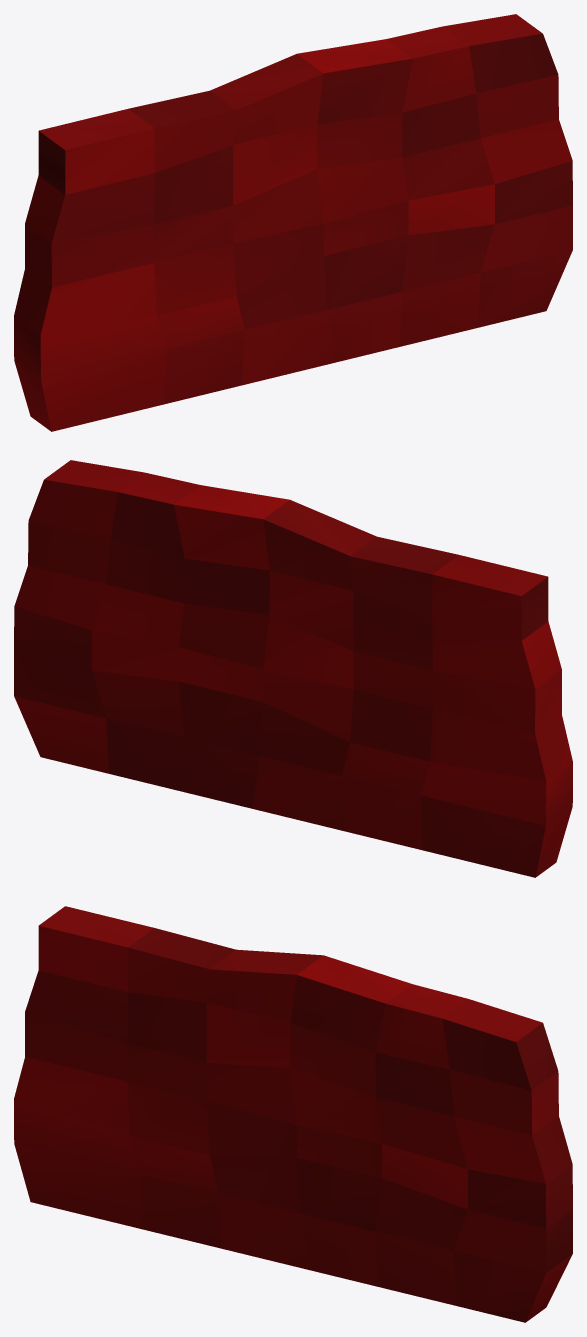
Rendered from StoneWall.glb.
The picture shows the model from 3 angles, top to bottom: view 1: azimuth 30°, elevation 25°; view 2: azimuth 150°, elevation 25°; view 3: azimuth 330°, elevation 25°; orthographic projection.
Parts seen in each view (by area): view 1: StoneWall; view 2: StoneWall; view 3: StoneWall.
Part boxes in pixels (<box>): StoneWall: <box>14,14,572,431</box>; StoneWall: <box>14,460,572,877</box>; StoneWall: <box>14,906,572,1322</box>.
Bounding box in the file's own units: 17.62 × 9.33 × 1.53.
